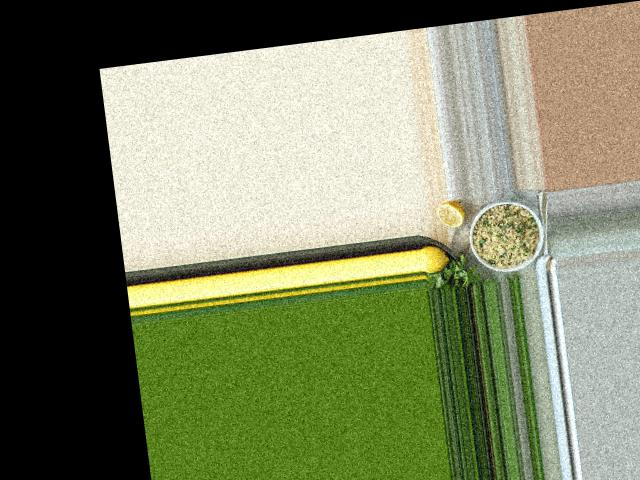lemon: (421, 247, 448, 272)
